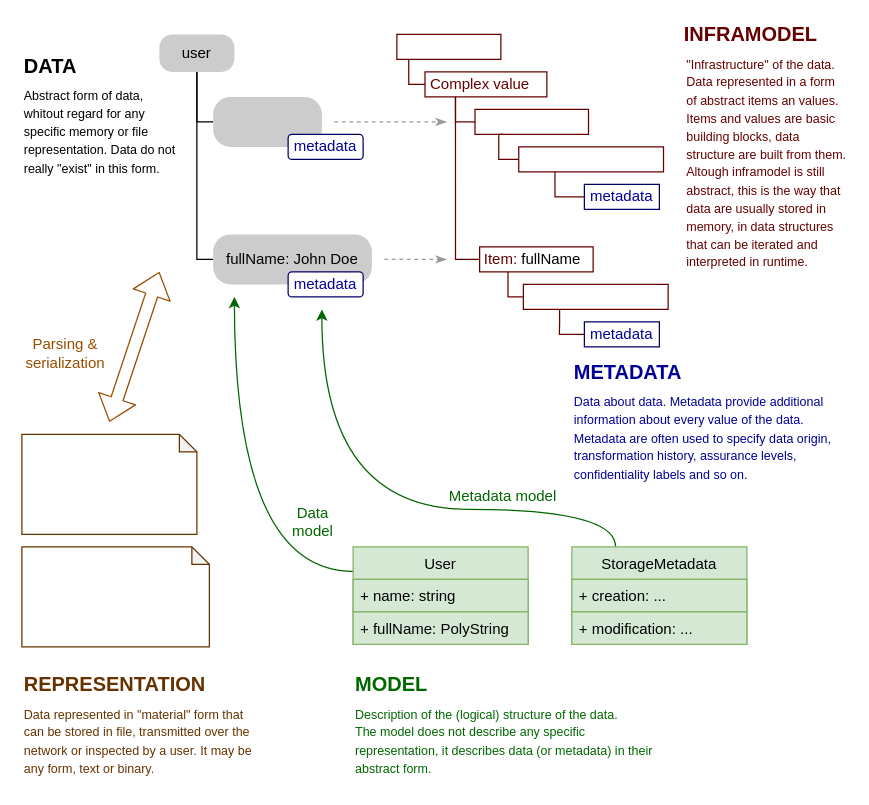
Some shapes in this 869 by 805 pixel diagram are drawn without their labels. Each missing label, with the box of its shape:
"user" : { "name" : "john", "fullName" : "John Doe" }: (21, 546, 209, 647)
<user> <name>john</name> <fullName>John Doe </user>: (21, 433, 197, 534)
Item: name: (474, 108, 588, 134)
Item: user: (396, 33, 501, 59)
name: john: (212, 96, 321, 146)
Value: "John Doe": (522, 283, 668, 309)
Value: "john": (518, 146, 664, 172)
